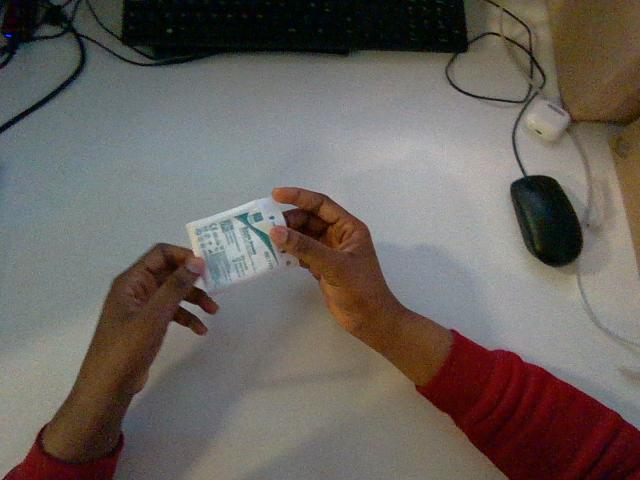gauze: (186, 197, 298, 292)
